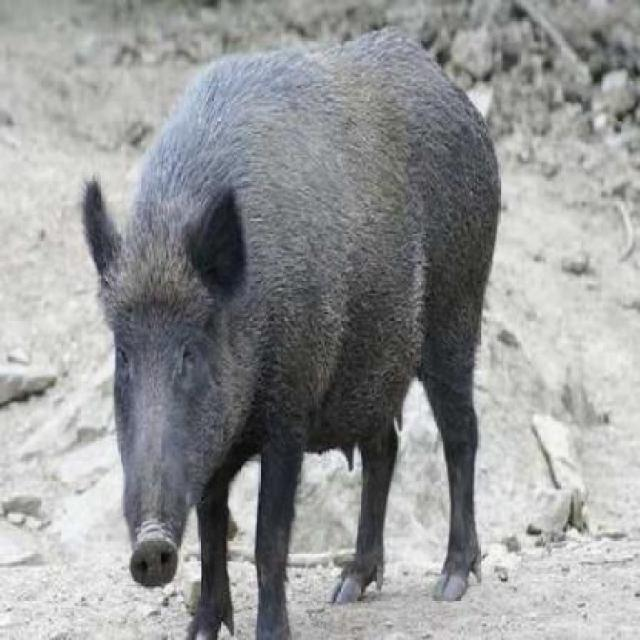pig: (77, 15, 508, 638)
